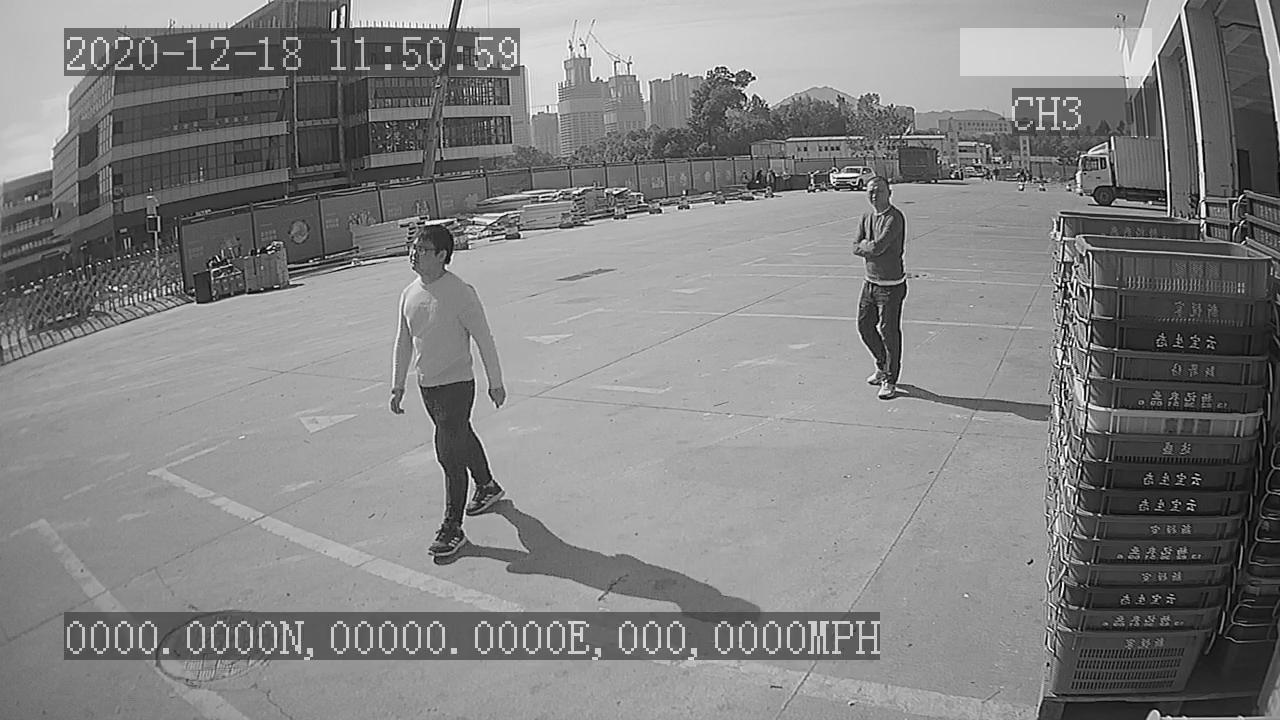person: (381, 219, 517, 565), (847, 172, 915, 408)
